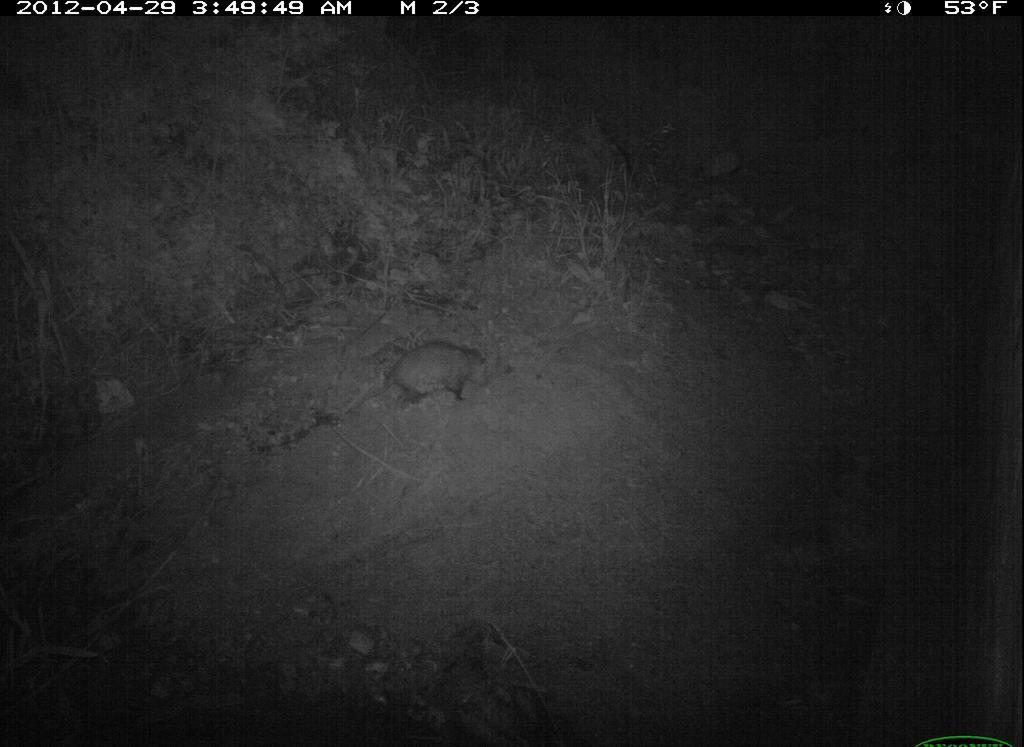opossum: (338, 327, 525, 424)
